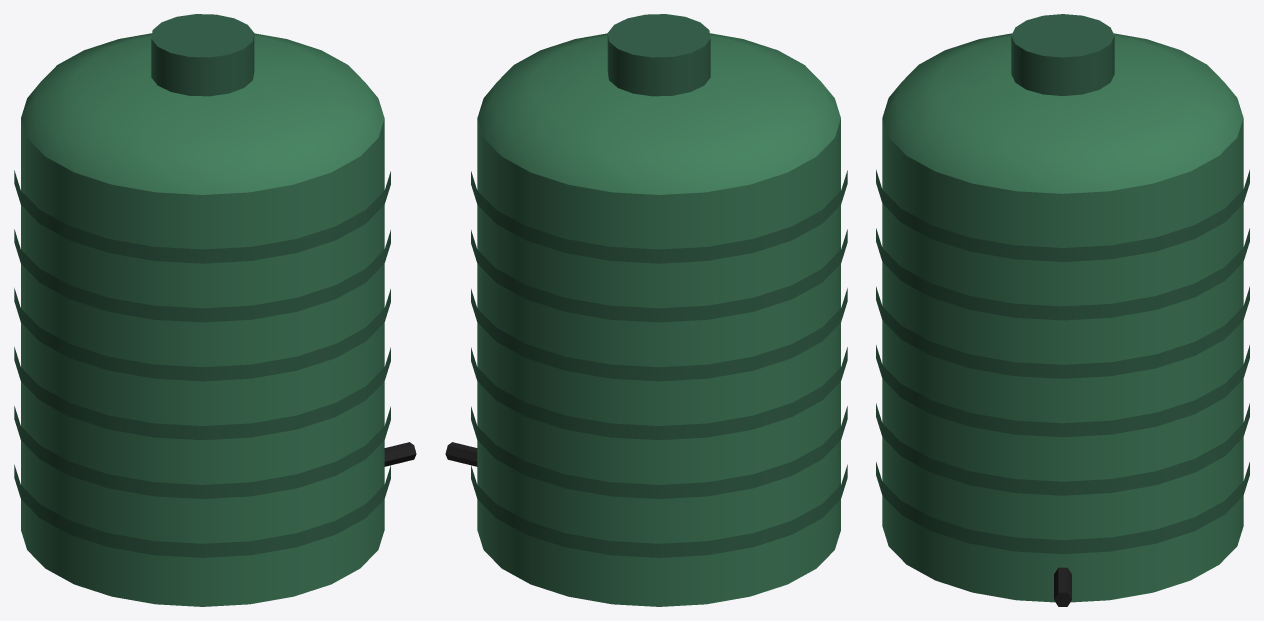
File: water_tank.glb
The picture shows the model from 3 angles, left to right: view 1: azimuth 30°, elevation 25°; view 2: azimuth 150°, elevation 25°; view 3: azimuth 270°, elevation 25°; orthographic projection.
Visible parts, largest first — view 1: water_tank; view 2: water_tank; view 3: water_tank.
Boxes of the visible parts, left/top/right/bottom form: water_tank: left=14, top=14, right=416, bottom=606; water_tank: left=445, top=14, right=847, bottom=606; water_tank: left=876, top=14, right=1249, bottom=606.
Bounding box in the file's own units: 1.66 × 2.1 × 1.45.
Materials: 1 (1 with a texture image).
